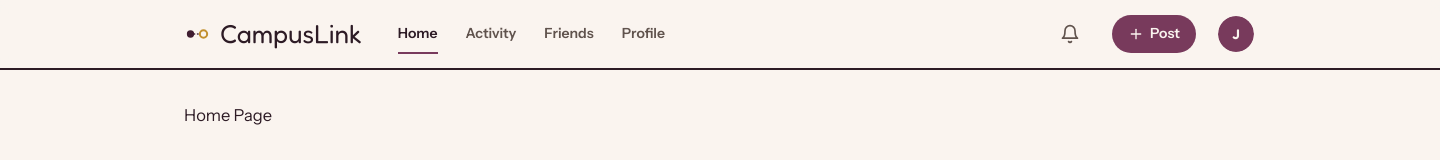
Test: navigation targets › clicking Ordering in the desktop Activity dropdown navigates to the Ordering route
The image size is (1440, 160).
Click the button "Activity" at [491, 34], box [465,15,516,53]
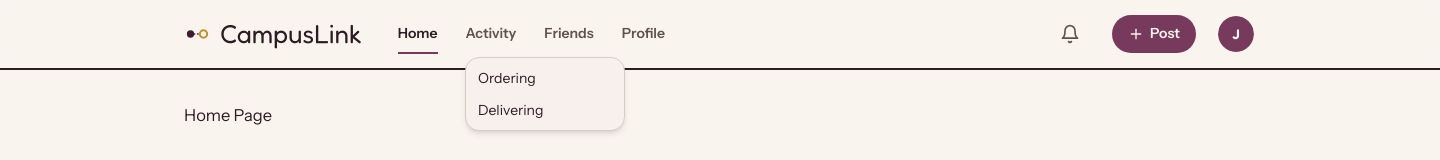
Click the menu item "Ordering" at [507, 78], box [478,69,536,87]
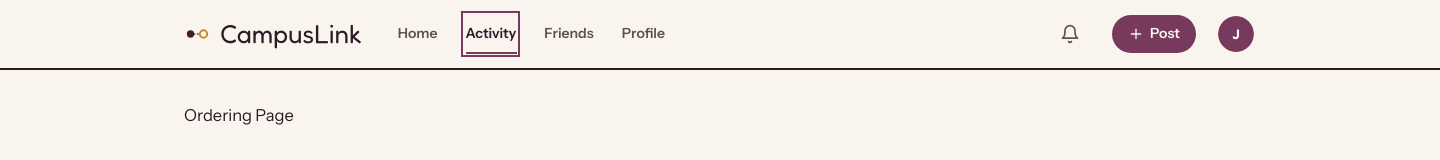
expect the text "Ordering Page" is shown: met, box [184,105,294,125]
